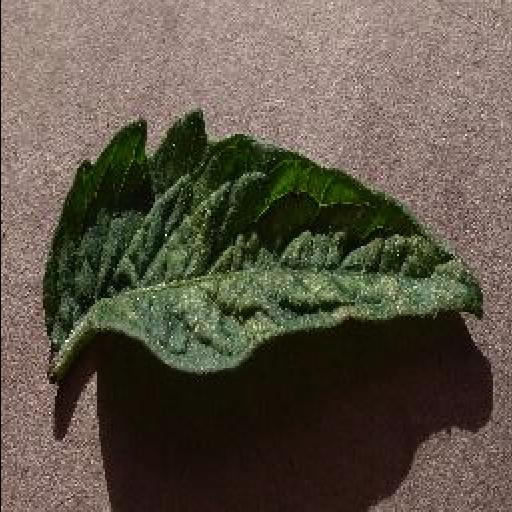disease_tomato: (42, 113, 482, 375)
